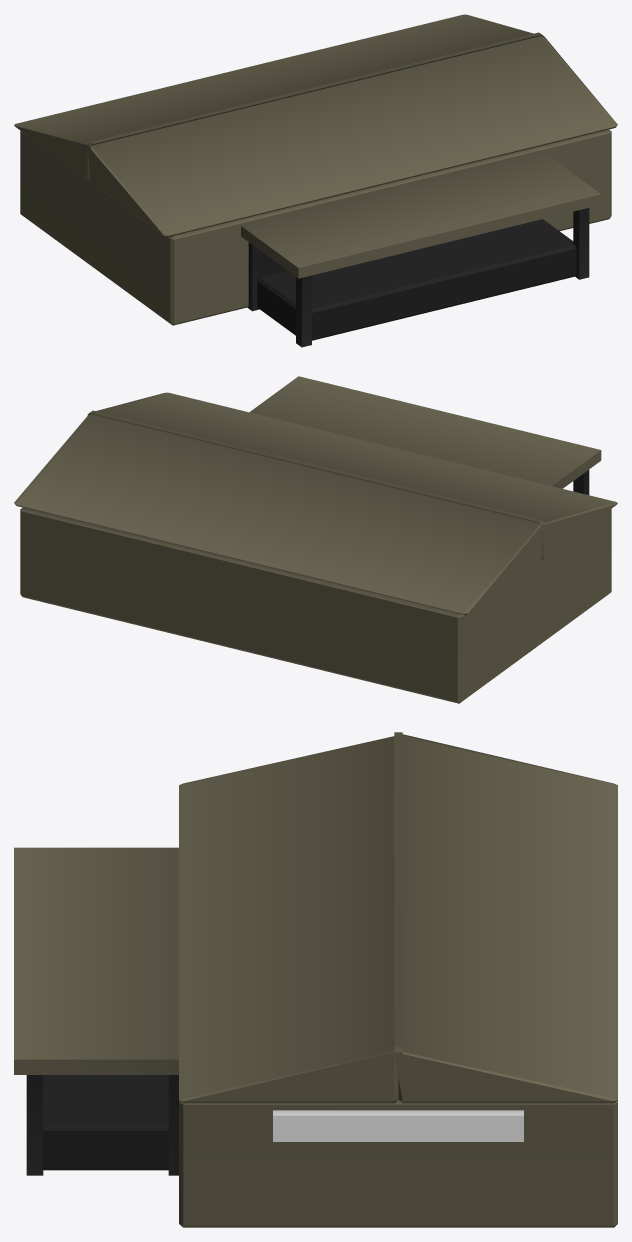
File: ru-supply-center.glb
The picture shows the model from 3 angles, top to bottom: view 1: azimuth 30°, elevation 25°; view 2: azimuth 150°, elevation 25°; view 3: azimuth 270°, elevation 25°; orthographic projection. The views are drawn at different scales.
Visible parts, largest first — view 1: ru-supply-center; view 2: ru-supply-center; view 3: ru-supply-center.
Boxes of the visible parts, x1,y1,x2,y2 form: ru-supply-center: (14,14,617,347); ru-supply-center: (14,376,617,703); ru-supply-center: (14,732,617,1227).
Bounding box in the file's own units: 3.61 × 0.98 × 2.89.
